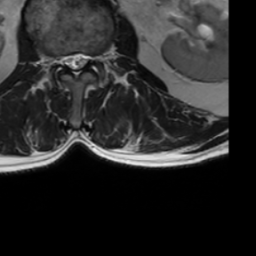CCS_normal: (72, 46, 81, 83)
LFS_stenosis: (90, 47, 98, 70)
LLS_stenosis: (81, 47, 90, 71)
RFS_stenosis: (54, 48, 63, 71)
RLS_normal: (63, 47, 72, 72)
